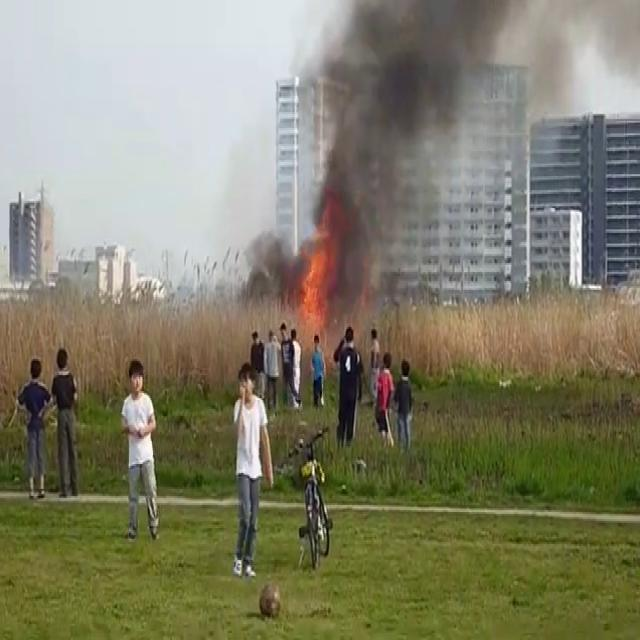Fire: (291, 212, 334, 348)
Smoke: (296, 0, 546, 290)
